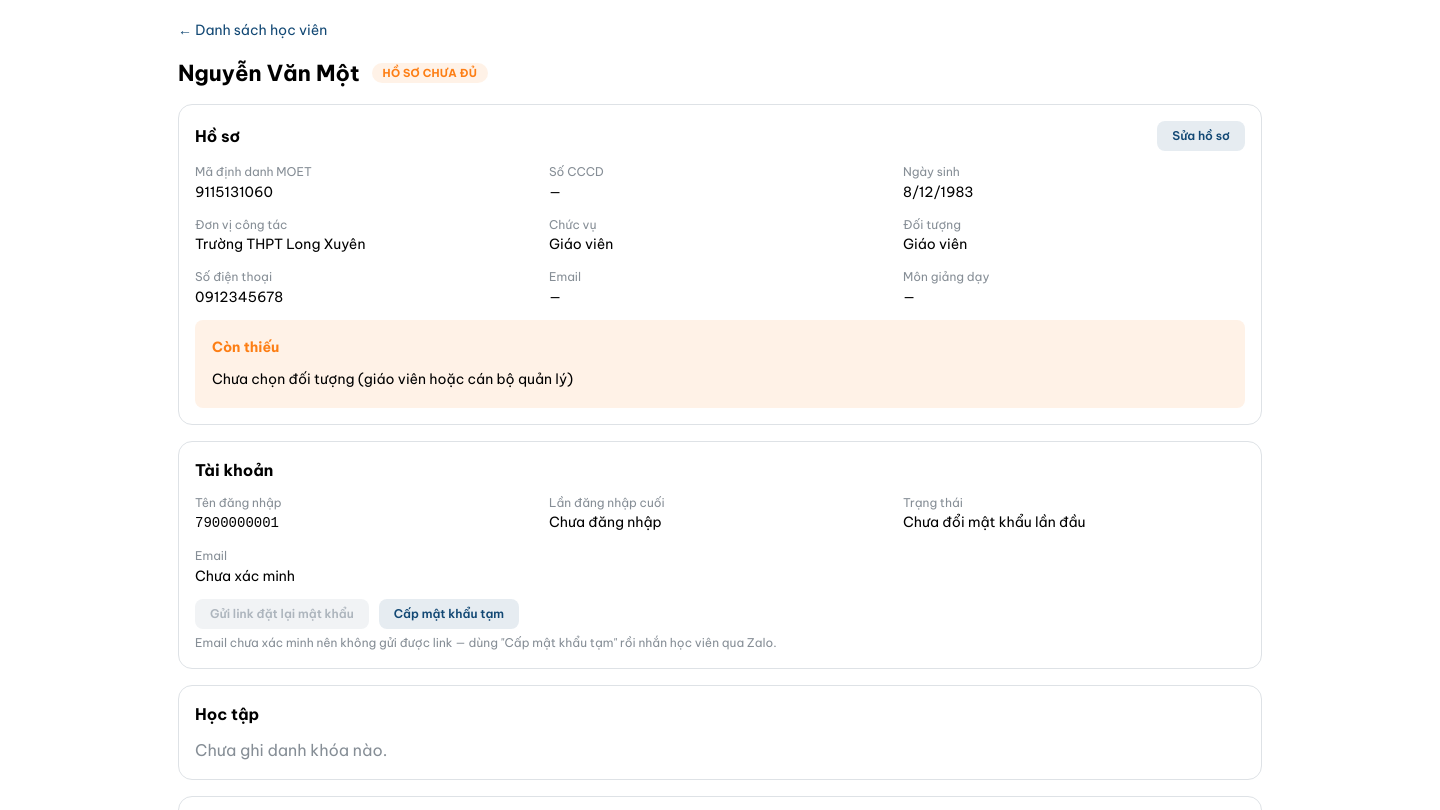
Test: Người hỗ trợ — sửa hồ sơ học viên › chỉ gửi trường đã đổi + lý do; nút Lưu khóa khi chưa đổi gì hoặc lý do quá ngắn
Click the button "Sửa hồ sơ". click: x=1201, y=136
box: [1157, 122, 1245, 152]
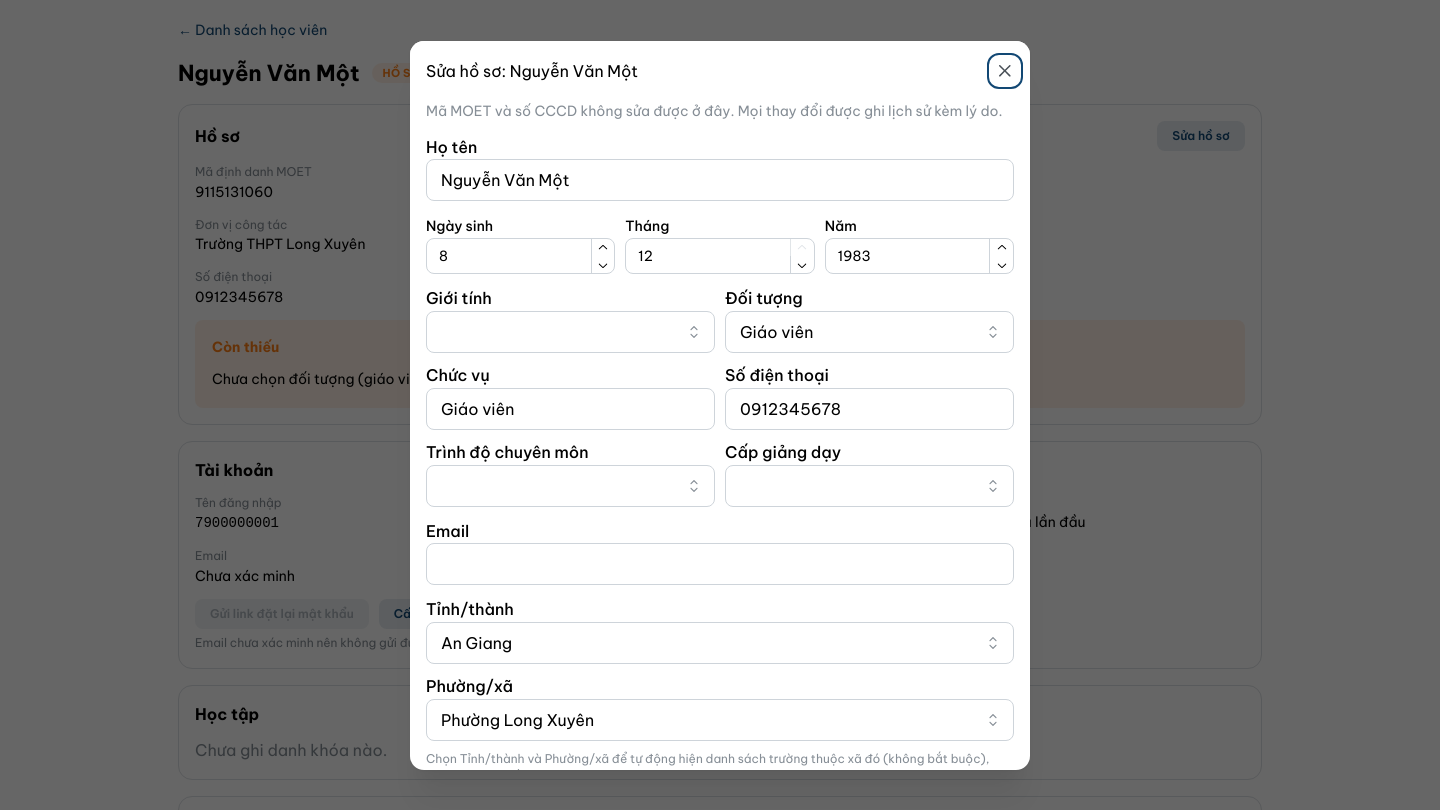
Replace the text in the field labelled "Chức vụ" with "Tổ trưởng". click: x=570, y=408
box: [426, 387, 715, 429]
(page scrolled)
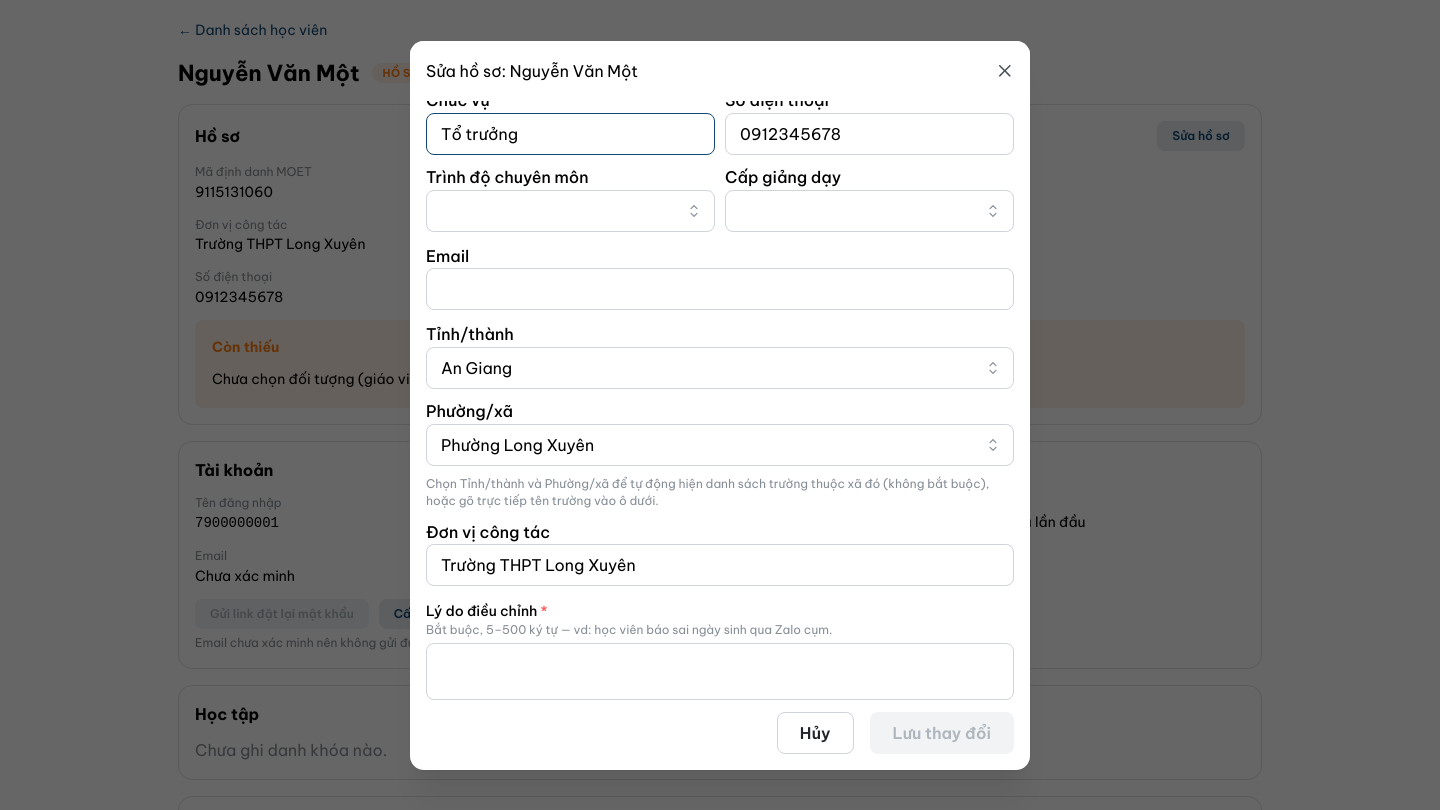
Type "abc" into the text box labelled "Lý do điều chỉnh *". click: x=720, y=671
box: [426, 642, 1014, 699]
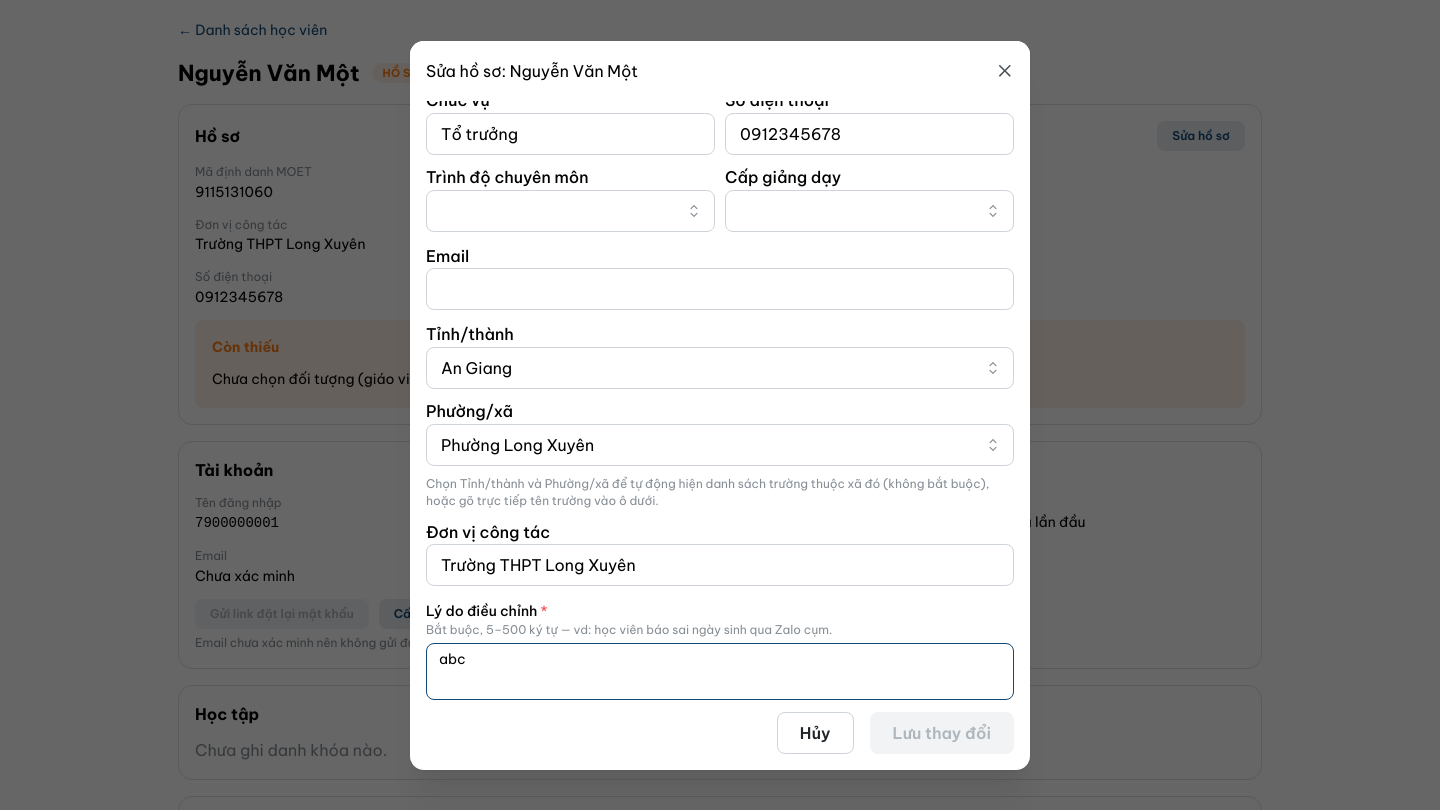
Now the button "Lưu thay đổi" is disabled, box [870, 711, 1014, 753]
Type " qua Zalo" into the text box labelled "Lý do điều chỉnh *". click: x=720, y=671
box: [426, 642, 1014, 699]
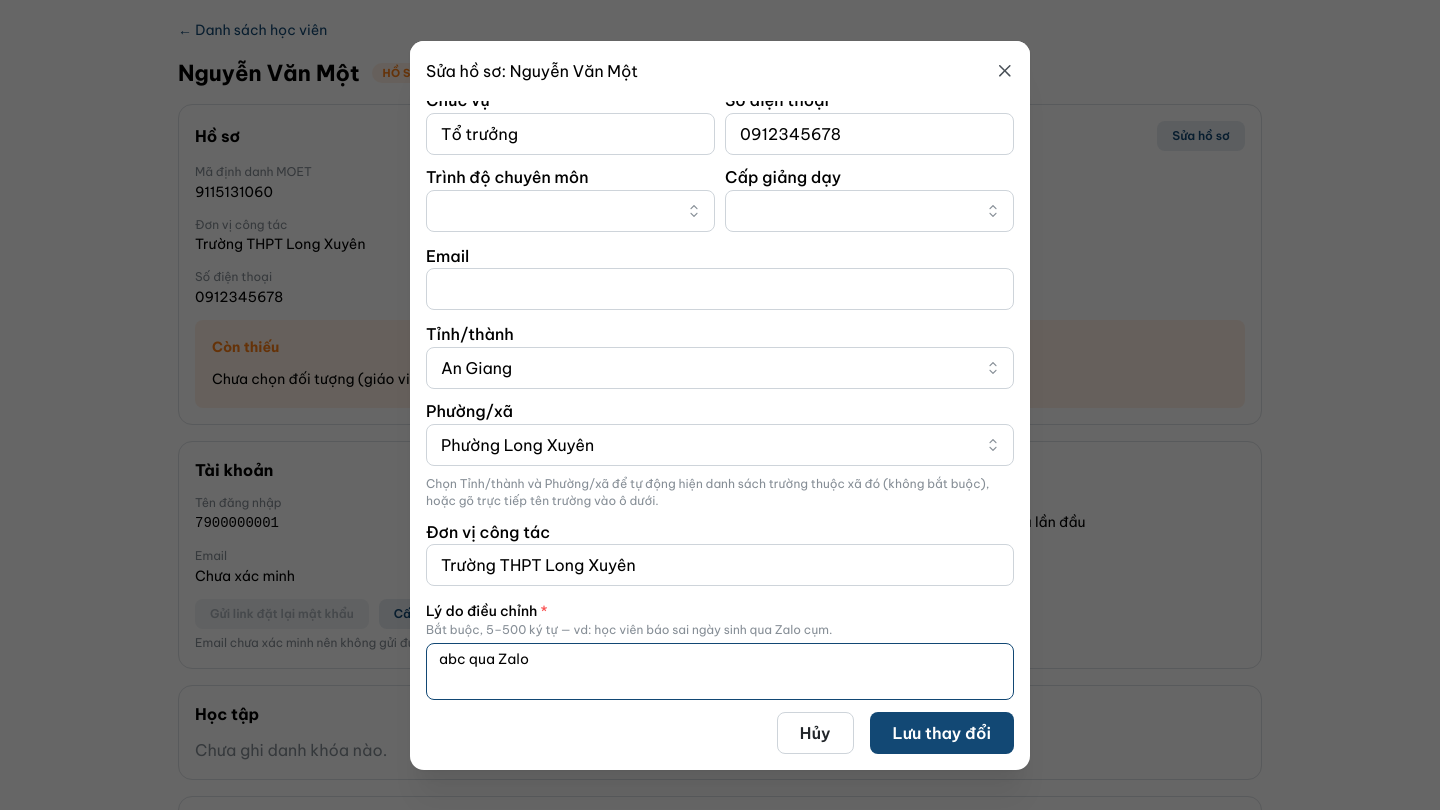
Click the button "Lưu thay đổi". click: x=942, y=732
box: [870, 711, 1014, 753]
(page scrolled)
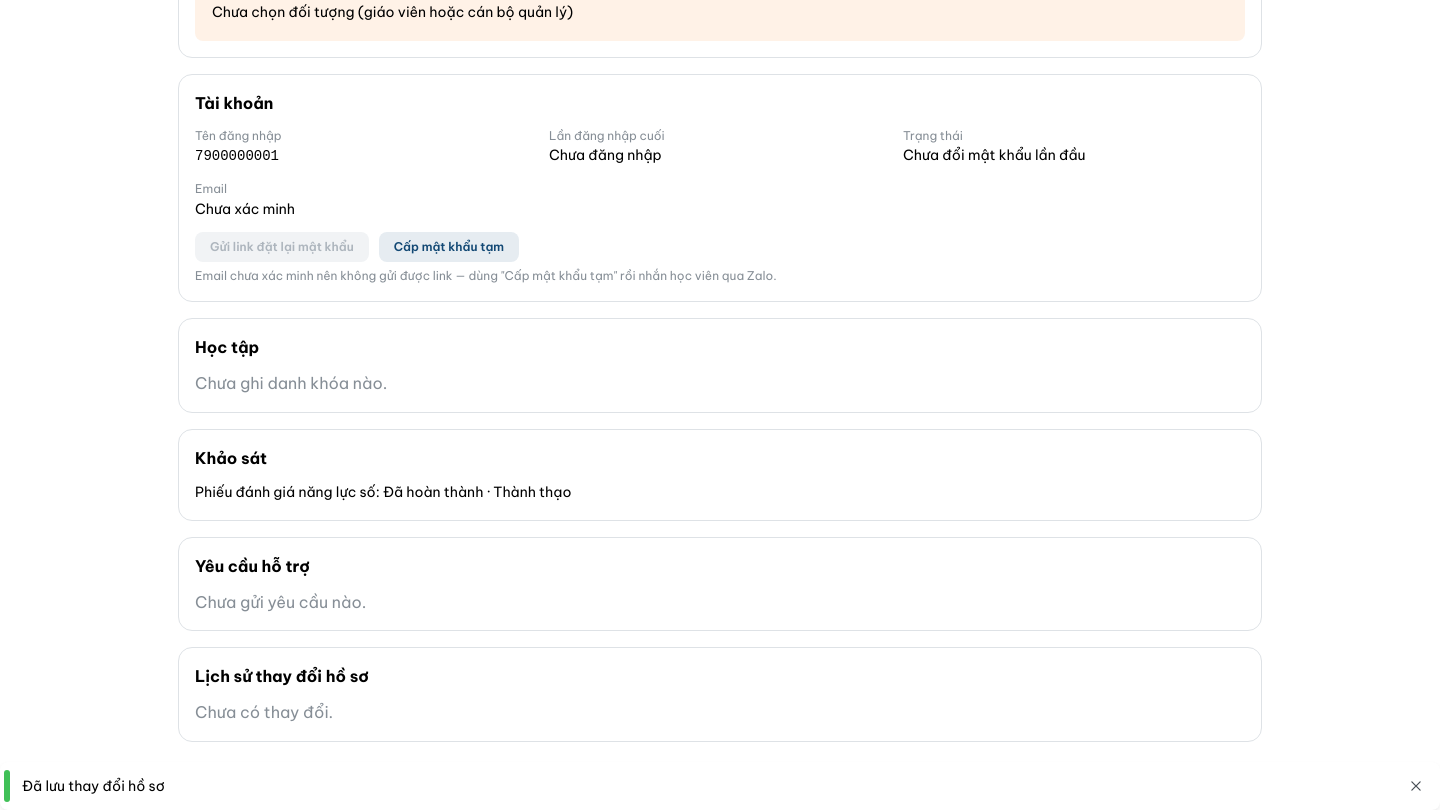
Now the text "Đã lưu thay đổi hồ sơ" is shown, box [22, 777, 165, 795]
